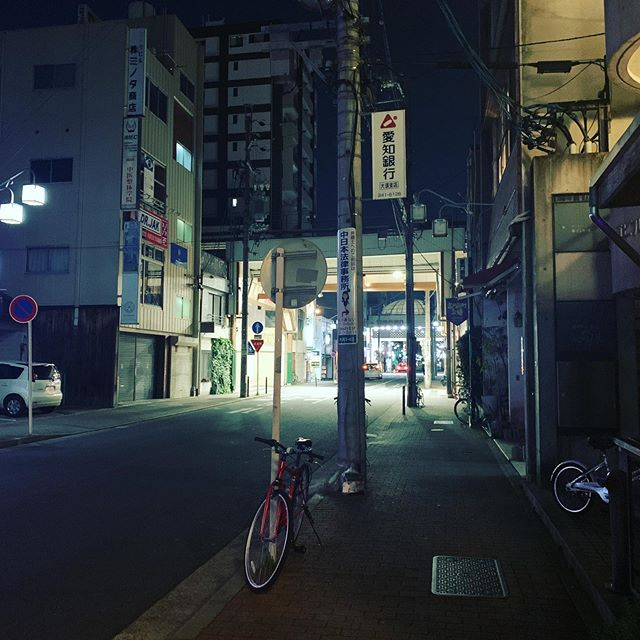bicicle: (228, 451, 331, 584), (529, 417, 640, 522)
building: (471, 1, 640, 499), (16, 22, 201, 387), (193, 29, 323, 233), (199, 264, 254, 388)
car: (2, 357, 75, 414)
street: (1, 371, 409, 630)
